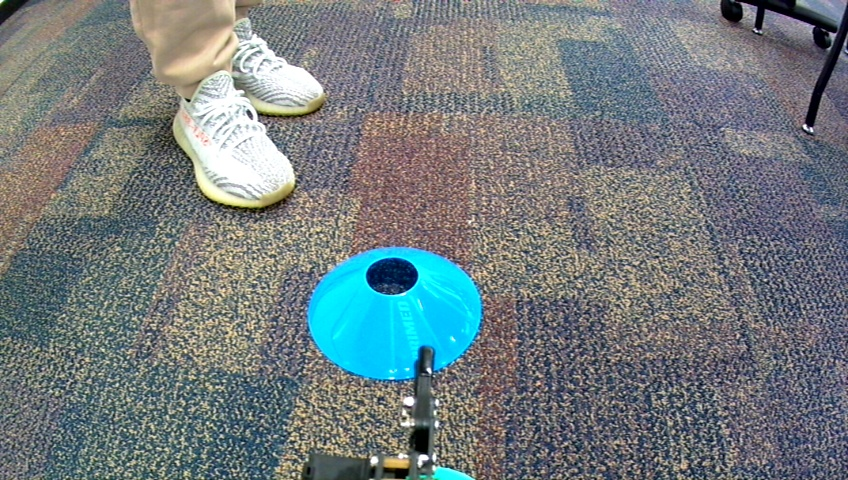cone: (305, 245, 484, 383)
